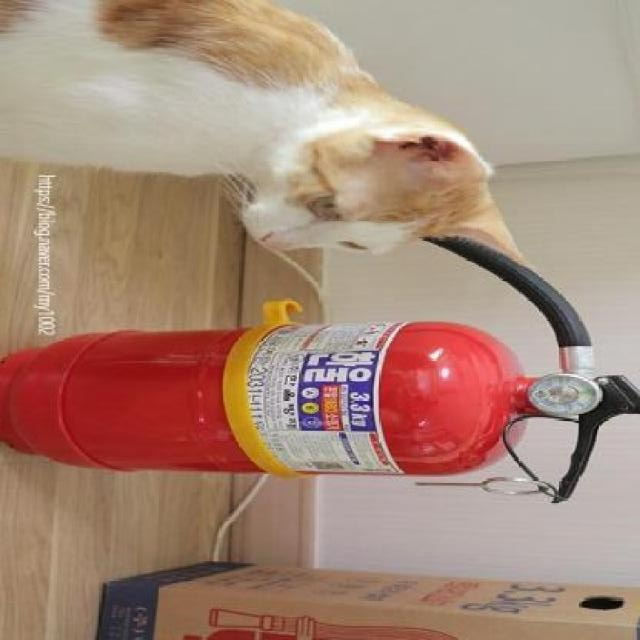fire extinguisher: (0, 234, 640, 506)
